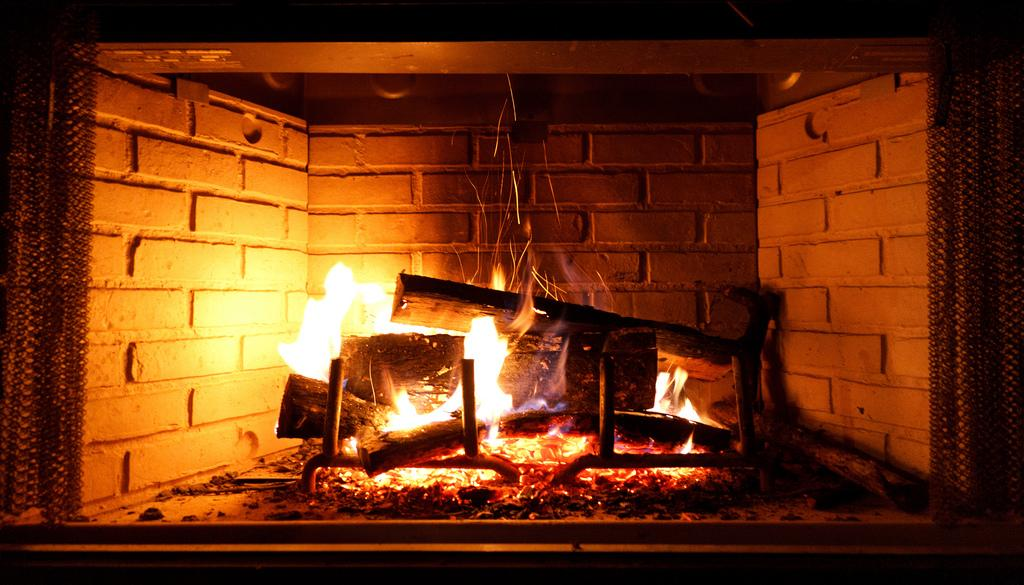fire: (289, 277, 364, 376), (470, 317, 507, 416)
